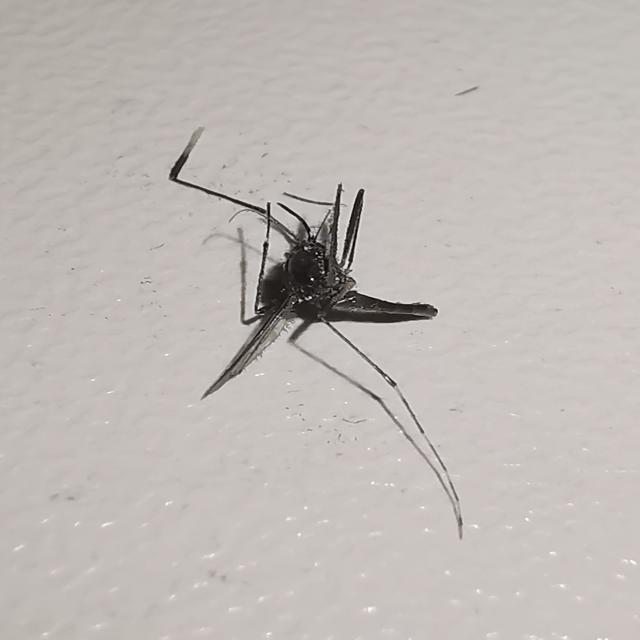albopictus: (152, 115, 476, 544)
